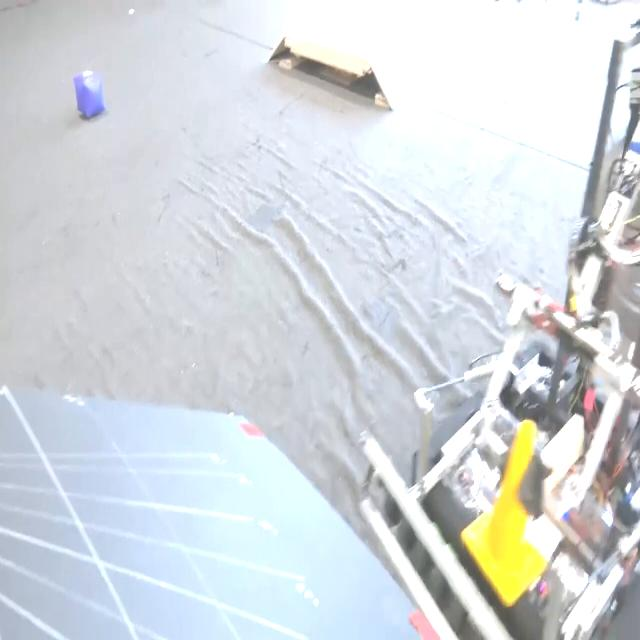frc_cone: (466, 419, 541, 611)
frc_cube: (72, 68, 107, 123)
